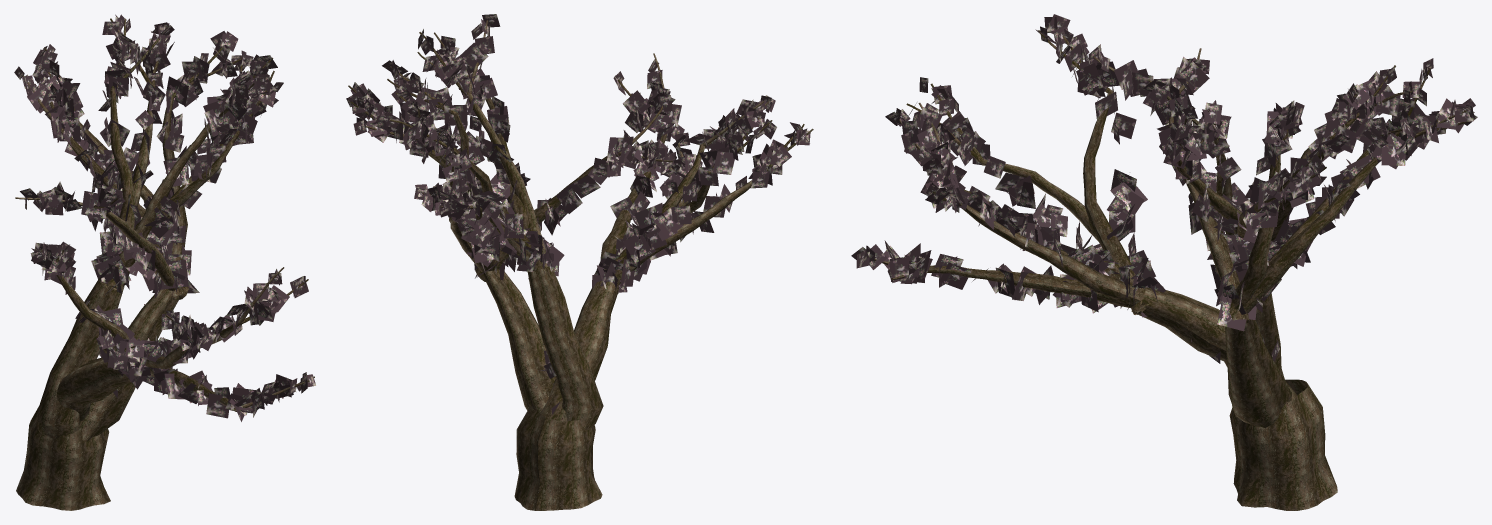
Rendered from blossom_3x_5.glb.
3 renders of one model, left to right at view 1: azimuth 30°, elevation 25°; view 2: azimuth 150°, elevation 25°; view 3: azimuth 270°, elevation 25°, orthographic. The views are drawn at different scales.
Visible parts, largest first — view 1: blossom; view 2: blossom; view 3: blossom.
Boxes of the visible parts, left/top/right/bottom form: blossom: left=14, top=14, right=315, bottom=510; blossom: left=346, top=14, right=813, bottom=510; blossom: left=851, top=14, right=1477, bottom=510.
Size of the model in its own units: 42.42 by 50.76 by 58.43.
2 materials, 2 textured.
